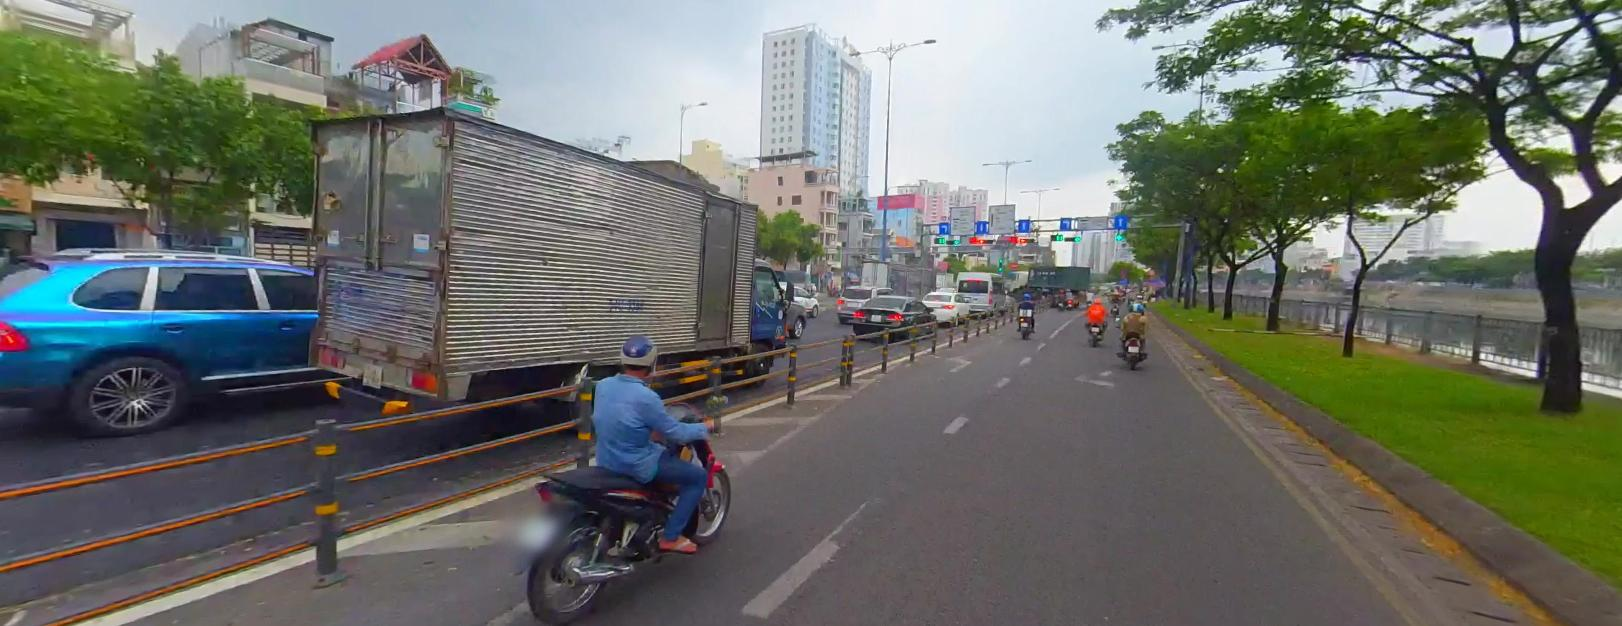Cam dung va do: (1119, 266, 1127, 273)
Cam nguoc chieu: (1009, 261, 1017, 268)
Hieu lenh: (1008, 269, 1016, 277)
